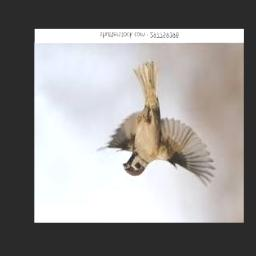Sparrow: (97, 61, 215, 188)
